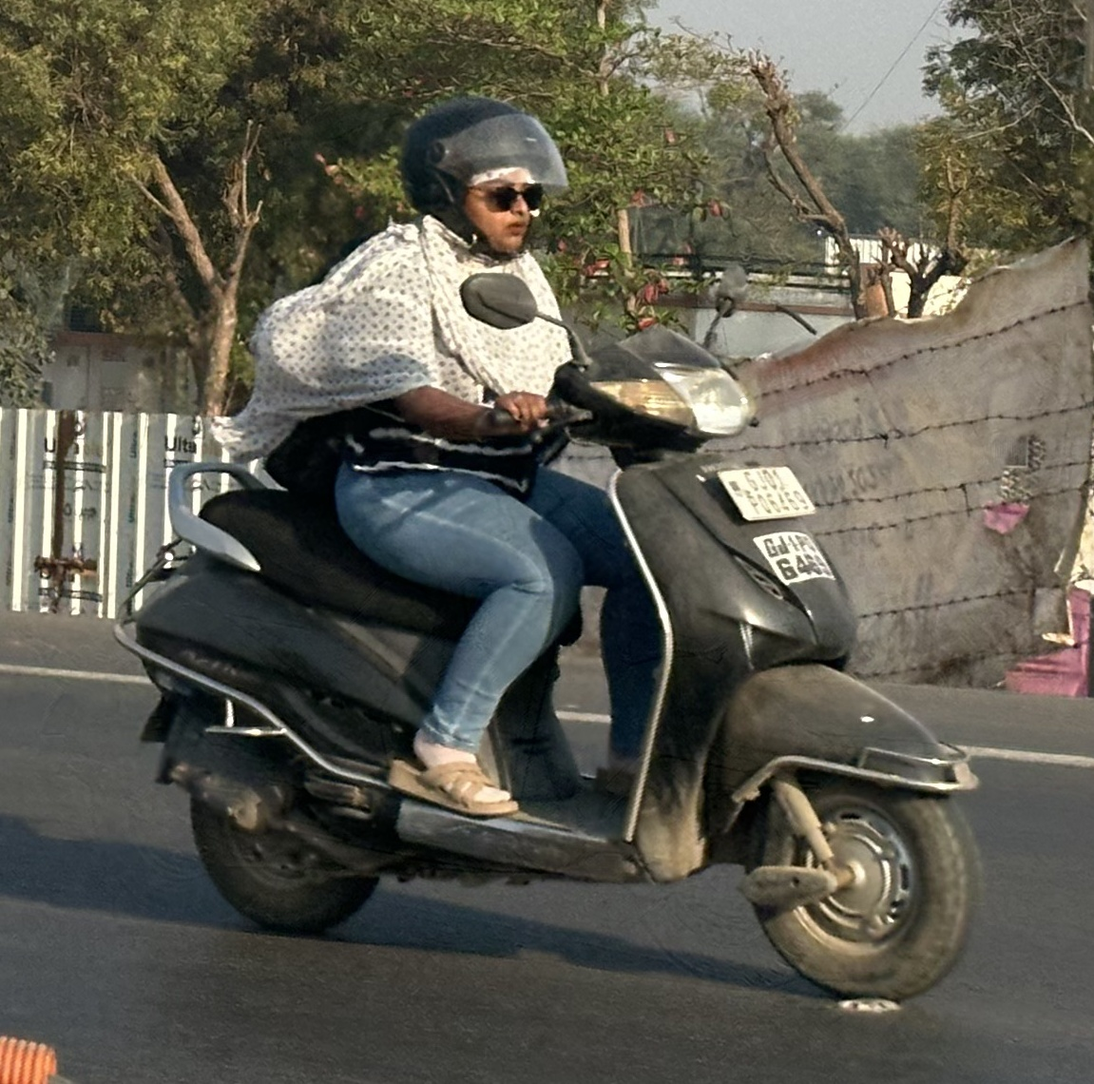BikeWithRider: (106, 59, 988, 1011)
Helmet: (381, 94, 577, 282)
